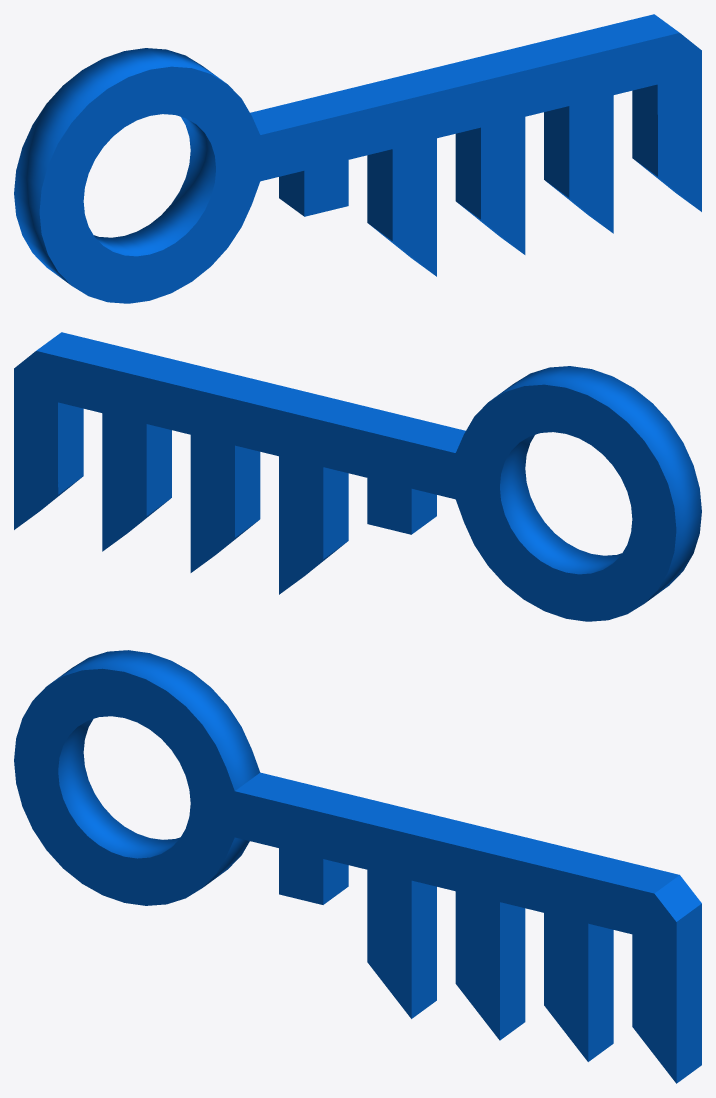
The model's file is Items.fbx_Key_19.fbx.
The picture shows the model from 3 angles, top to bottom: view 1: azimuth 30°, elevation 25°; view 2: azimuth 150°, elevation 25°; view 3: azimuth 330°, elevation 25°; orthographic projection.
Visible parts, largest first — view 1: Key 19; view 2: Key 19; view 3: Key 19.
Boxes of the visible parts, x1,y1,x2,y2 form: Key 19: [14, 14, 701, 303]; Key 19: [14, 332, 701, 621]; Key 19: [14, 650, 701, 1083].
Size of the model in its own units: 0.3 by 0.12 by 0.02.
